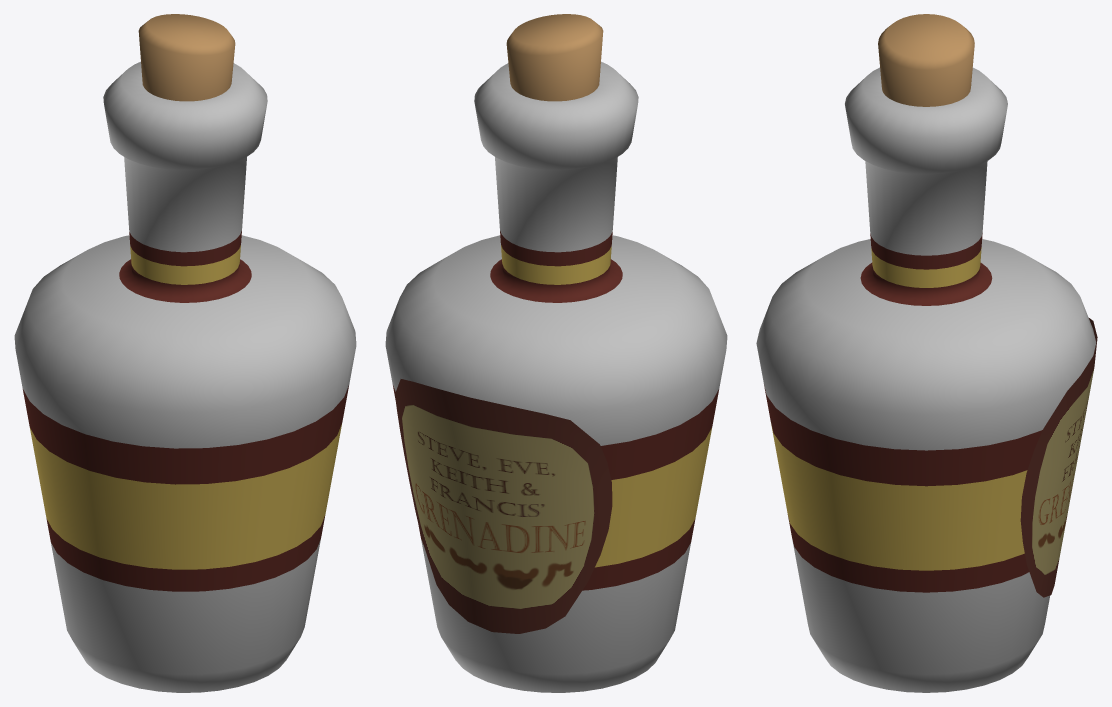
File: Bottle.fbx
3 renders of one model, left to right at view 1: azimuth 30°, elevation 25°; view 2: azimuth 150°, elevation 25°; view 3: azimuth 270°, elevation 25°, orthographic.
Visible parts, largest first — view 1: Cylinder.001; view 2: Cylinder.001; view 3: Cylinder.001.
Boxes of the visible parts, <box> form: Cylinder.001: <box>14,14,356,692</box>; Cylinder.001: <box>385,14,727,692</box>; Cylinder.001: <box>756,14,1097,692</box>.
Bounding box in the file's own units: 2.58 × 2.59 × 5.28.
